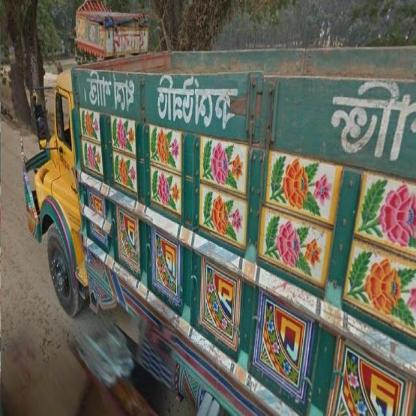truck: (14, 17, 414, 411)
